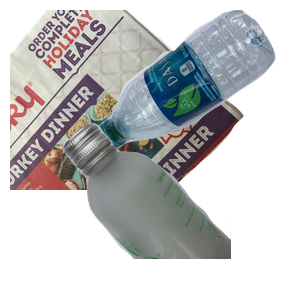glass: (60, 120, 300, 300)
paper: (10, 10, 247, 190)
plastic: (90, 10, 300, 156)
trash: (88, 177, 251, 300)
